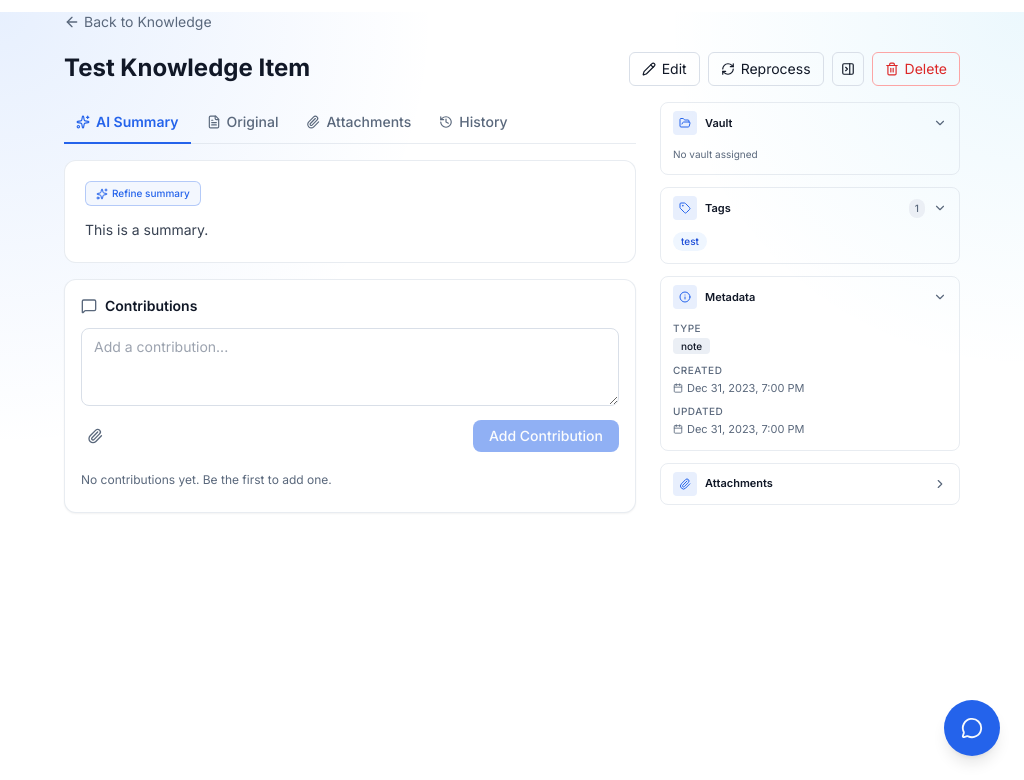
Test: KnowledgeChatPanel › Dynamic Placeholder › Should_ShowDetailedPlaceholder_WhenDetailedSelected
Expected: the heading "Test Knowledge Item" is shown, x1=64 y1=52 x2=310 y2=84
Click the button titled "Chat with this knowledge item".
click(972, 728)  # box x1=944 y1=700 x2=1000 y2=756
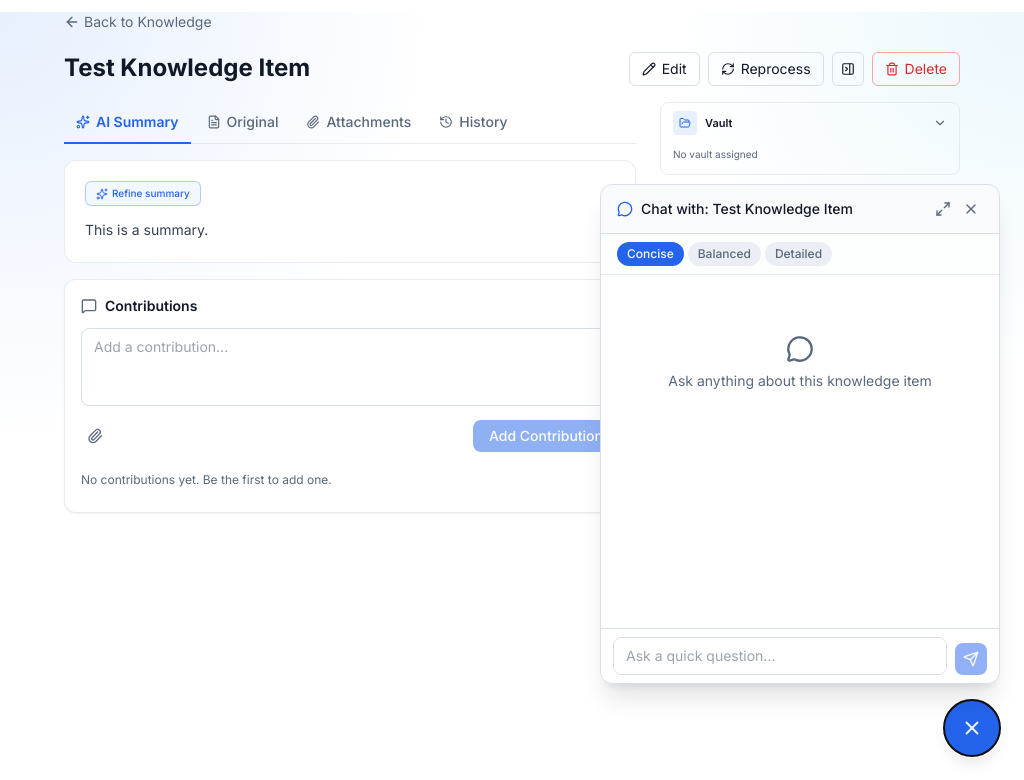
Click the button "Detailed".
click(798, 254)  # box x1=765 y1=242 x2=832 y2=266
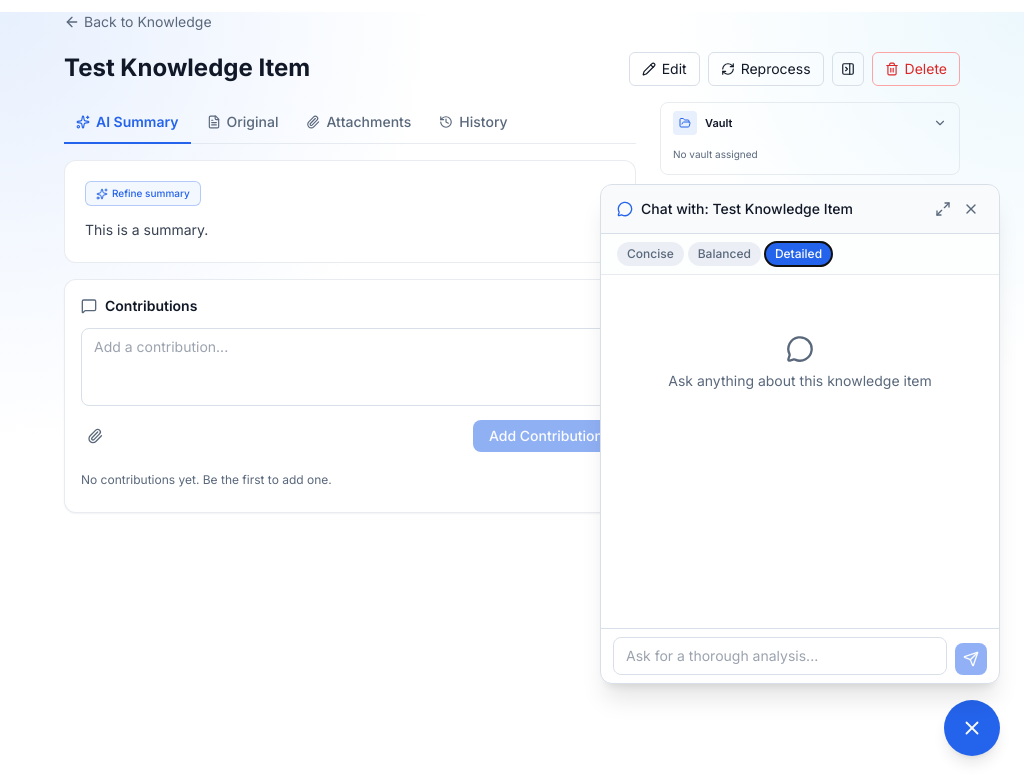
Expected: the text box with placeholder "Ask for a thorough analysis..." is shown, x1=613 y1=637 x2=947 y2=675
